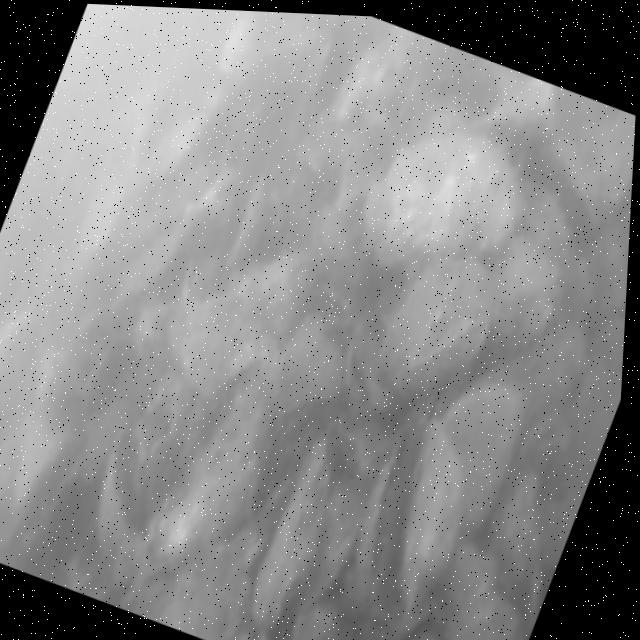Oyster-Indeterminate: (367, 125, 526, 269), (153, 379, 279, 539), (376, 254, 489, 401), (253, 440, 329, 635), (129, 537, 249, 640), (476, 239, 555, 362), (444, 386, 519, 513), (268, 308, 341, 412), (551, 133, 634, 223), (458, 600, 520, 640), (299, 609, 359, 640)
Oyster-Open: (359, 416, 465, 640)
